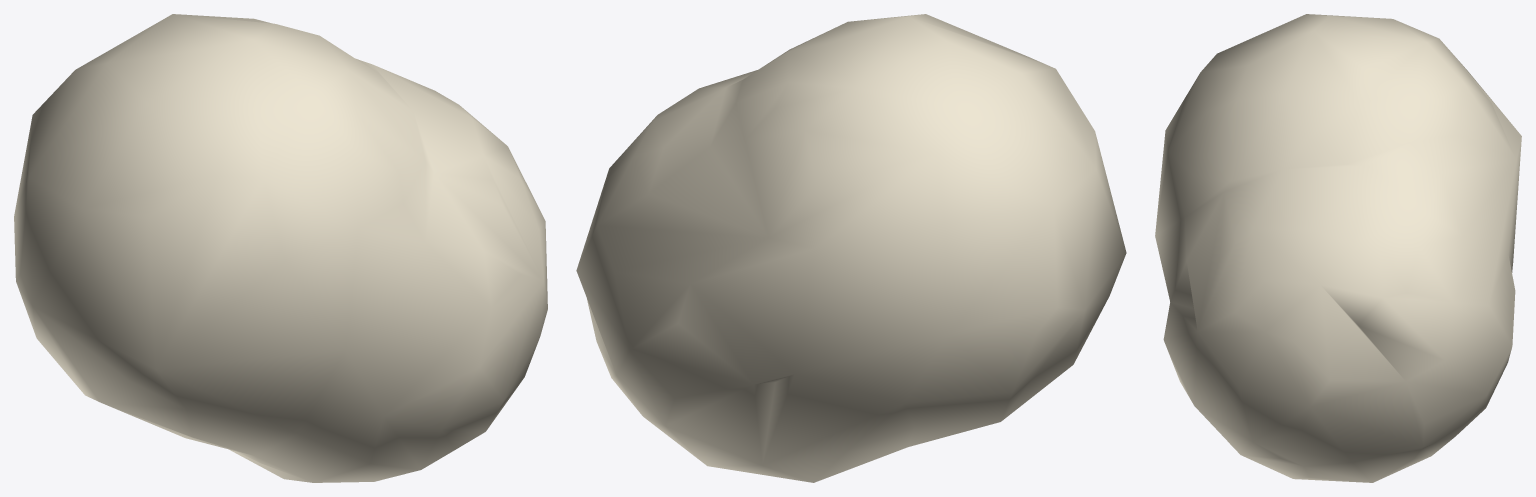
The model's file is caudal_3.glb.
3 views of the same model, side by side, from view 1: azimuth 30°, elevation 25°; view 2: azimuth 150°, elevation 25°; view 3: azimuth 270°, elevation 25° (orthographic). The views are drawn at different scales.
Visible parts, largest first — view 1: geometry_0; view 2: geometry_0; view 3: geometry_0.
Part boxes in pixels (bbox=[...]): geometry_0: bbox=[14, 14, 547, 482]; geometry_0: bbox=[576, 14, 1126, 482]; geometry_0: bbox=[1155, 14, 1521, 482].
Bounding box in the file's own units: 0.0644 × 0.059 × 0.0497.
